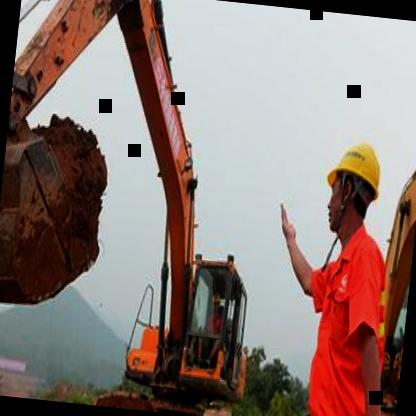helmet: (318, 124, 392, 247)
